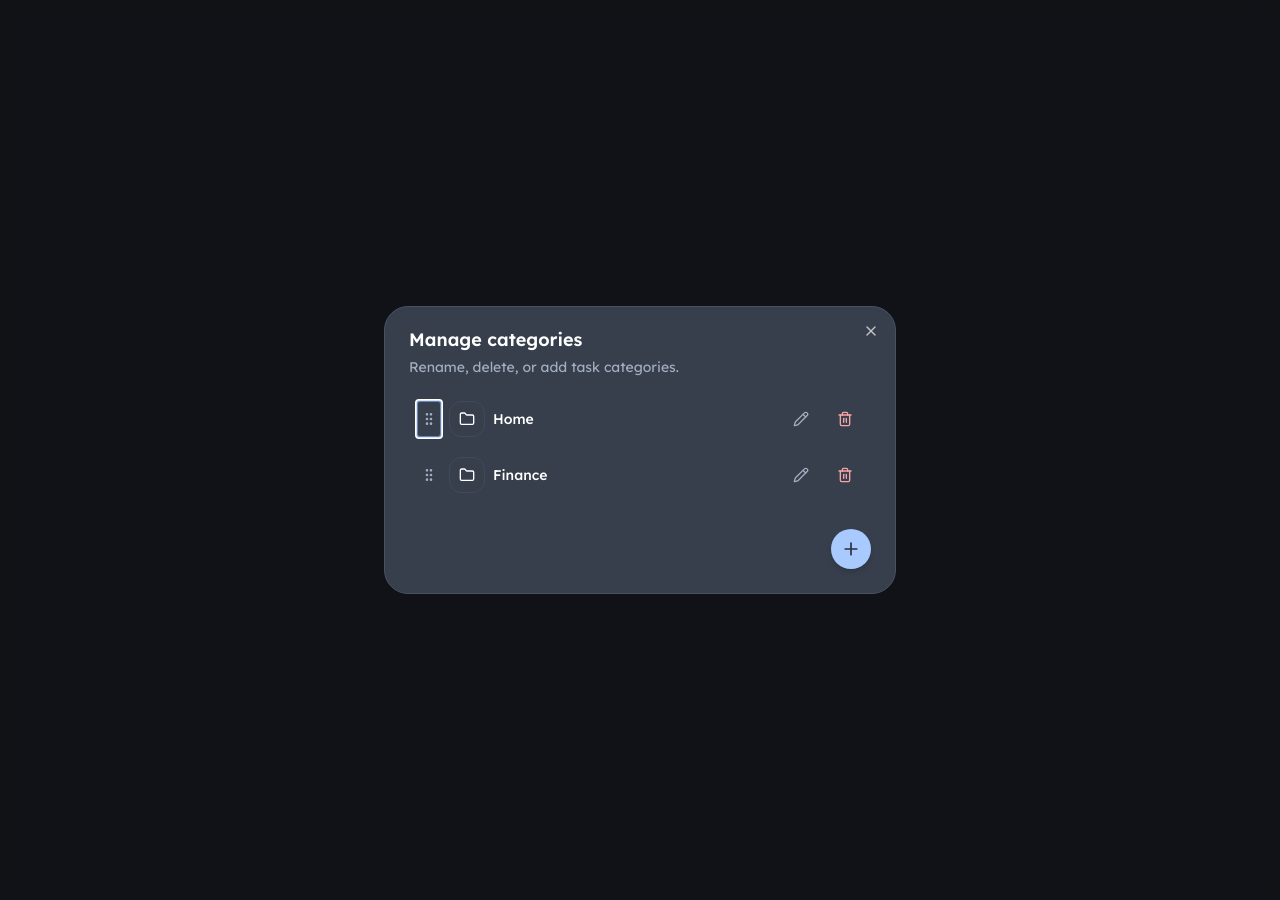
Test: CategoryManagerDialog › shows an input pre-filled with the current name when Edit is clicked
Click the button named "Edit Home": (801,419) left=783, top=401, right=819, bottom=437
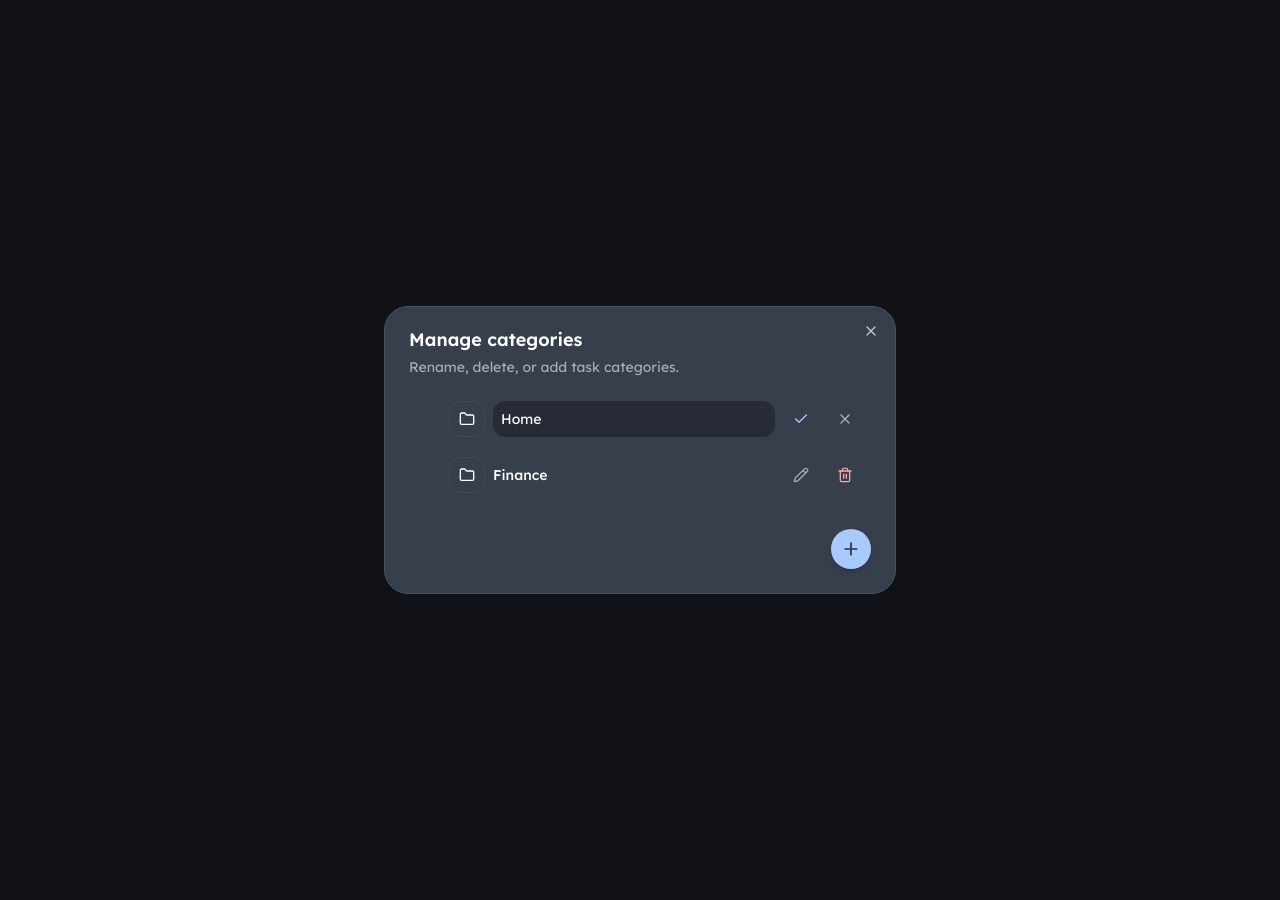
Check: the field showing "Home" is shown, box left=493, top=401, right=775, bottom=437
Check: the button named "Save" is shown, box left=783, top=401, right=819, bottom=437
Check: the button named "Cancel" is shown, box left=827, top=401, right=863, bottom=437
